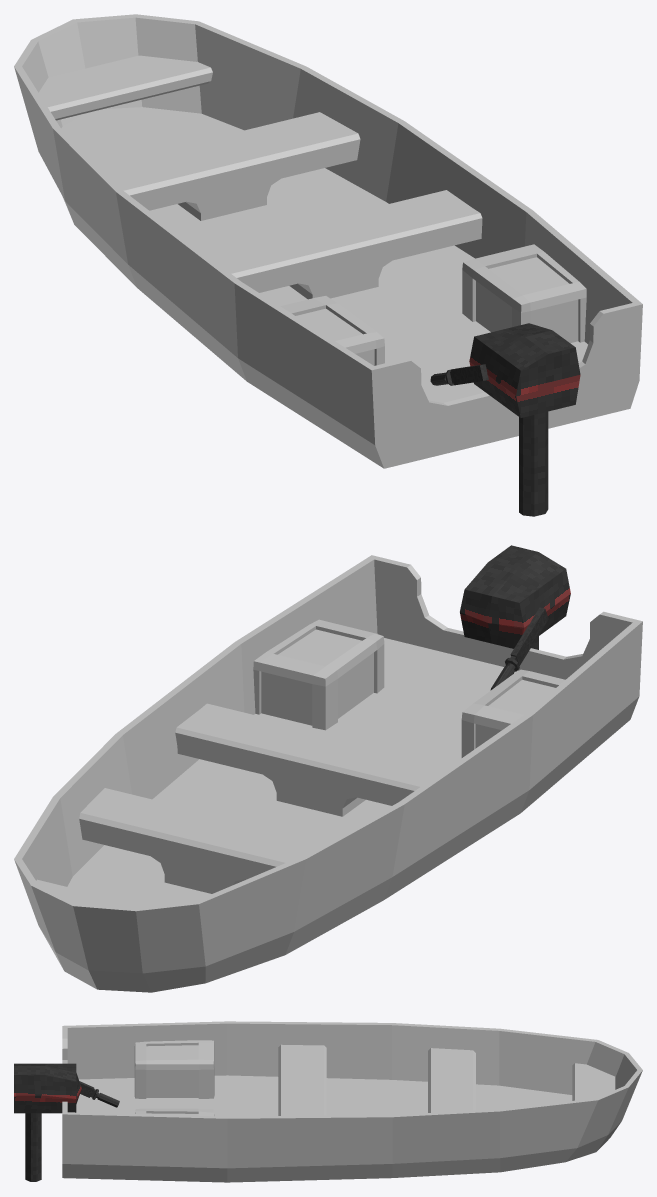
File: Ash.fbx
3 renders of one model, top to bottom at view 1: azimuth 30°, elevation 25°; view 2: azimuth 150°, elevation 25°; view 3: azimuth 270°, elevation 25°, orthographic. The views are drawn at different scales.
Visible parts, largest first — view 1: Base, Middle Seat, Front Seat, Engine, Back Seat Right, Front Table, Back Seat Right.001, Handle Start; view 2: Base, Middle Seat, Front Seat, Back Seat Right, Engine, Back Seat Right.001, Front Table, Handle Start; view 3: Base, Back Seat Right.001, Engine, Middle Seat, Front Seat, Front Table, Back Seat Right.
Part boxes in pixels (left/top/right/bottom): Base: left=14, top=14, right=642, bottom=468; Middle Seat: left=200, top=190, right=482, bottom=299; Front Seat: left=99, top=112, right=360, bottom=220; Engine: left=469, top=323, right=580, bottom=516; Back Seat Right: left=462, top=244, right=586, bottom=343; Front Table: left=38, top=55, right=212, bottom=120; Back Seat Right.001: left=280, top=296, right=384, bottom=365; Handle Start: left=445, top=364, right=488, bottom=385; Base: left=14, top=555, right=642, bottom=992; Middle Seat: left=175, top=703, right=453, bottom=816; Front Seat: left=79, top=788, right=326, bottom=893; Back Seat Right: left=253, top=619, right=384, bottom=730; Engine: left=460, top=545, right=570, bottom=649; Back Seat Right.001: left=461, top=669, right=565, bottom=757; Front Table: left=36, top=879, right=146, bottom=907; Handle Start: left=505, top=607, right=548, bottom=671; Base: left=62, top=1021, right=642, bottom=1182; Back Seat Right.001: left=134, top=1040, right=214, bottom=1098; Engine: left=14, top=1063, right=81, bottom=1181; Middle Seat: left=278, top=1044, right=326, bottom=1115; Front Seat: left=428, top=1048, right=475, bottom=1112; Front Table: left=572, top=1063, right=615, bottom=1100; Back Seat Right: left=135, top=1108, right=214, bottom=1116.
Bounding box in the file's own units: 2.26 × 1.21 × 6.17.
